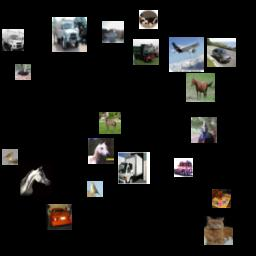airplane: (169, 37, 204, 72)
automobile: (207, 38, 236, 67), (46, 204, 72, 230)
bird: (191, 117, 217, 143), (15, 64, 31, 80), (87, 181, 103, 197), (2, 149, 18, 165)
cat: (204, 216, 233, 245), (212, 189, 231, 208), (139, 10, 158, 29)
ship: (102, 21, 124, 43)
truck: (52, 17, 87, 52), (118, 152, 150, 184), (133, 39, 159, 65), (2, 29, 24, 51), (174, 158, 193, 177)
